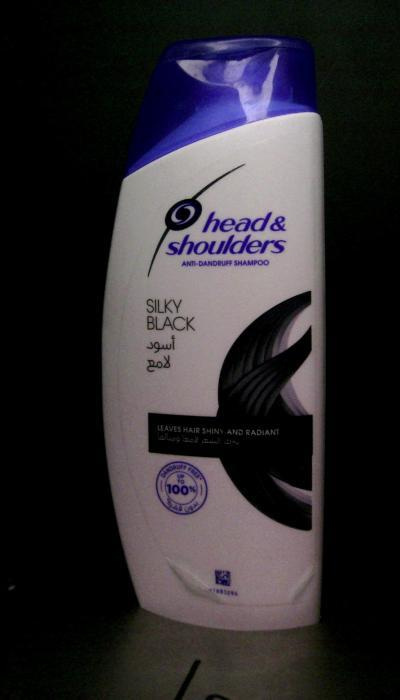adhesion_unacc: (162, 557, 230, 605), (290, 570, 316, 606)
